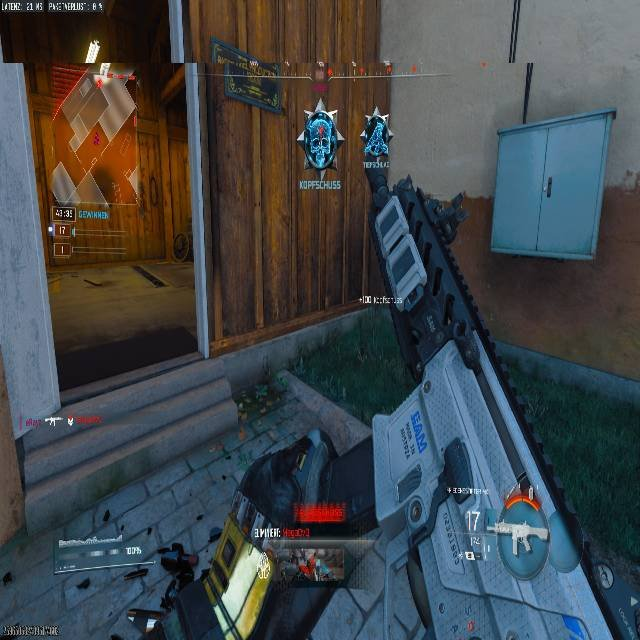player: (301, 102, 343, 175), (360, 110, 390, 200)
